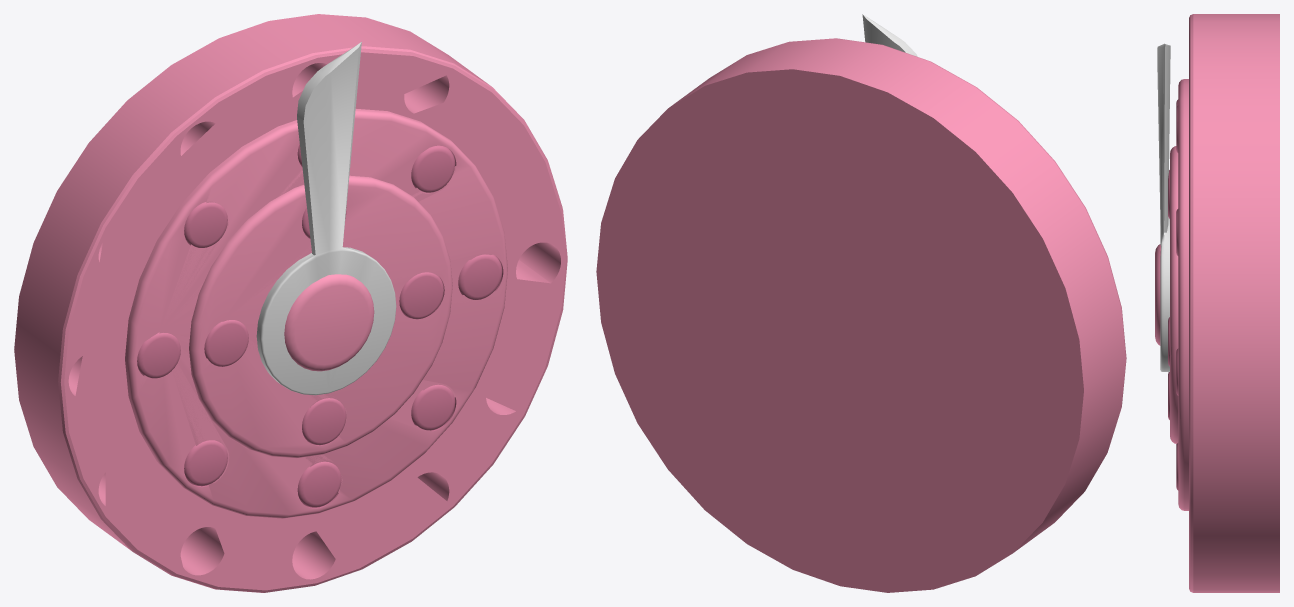
Rendered from Cutter.fbx.
3 views of the same model, side by side, from view 1: azimuth 30°, elevation 25°; view 2: azimuth 150°, elevation 25°; view 3: azimuth 270°, elevation 25° (orthographic). The views are drawn at different scales.
Parts seen in each view (by area): view 1: çember4, çember3, çember2, bıçak, çember1; view 2: çember4, bıçak; view 3: çember4, çember3, bıçak, çember2, çember1.
Part boxes in pixels (bbox=[...]): çember4: bbox=[14, 14, 567, 592]; çember3: bbox=[125, 109, 507, 518]; çember2: bbox=[189, 175, 452, 458]; bıçak: bbox=[256, 42, 396, 395]; çember1: bbox=[284, 274, 374, 371]; çember4: bbox=[596, 38, 1126, 592]; bıçak: bbox=[862, 14, 917, 56]; çember4: bbox=[1189, 14, 1279, 592]; çember3: bbox=[1176, 79, 1188, 510]; bıçak: bbox=[1157, 43, 1170, 371]; çember2: bbox=[1168, 146, 1178, 443]; çember1: bbox=[1155, 244, 1160, 345].
Bounding box in the file's own units: 58.74 × 60.23 × 12.66.
